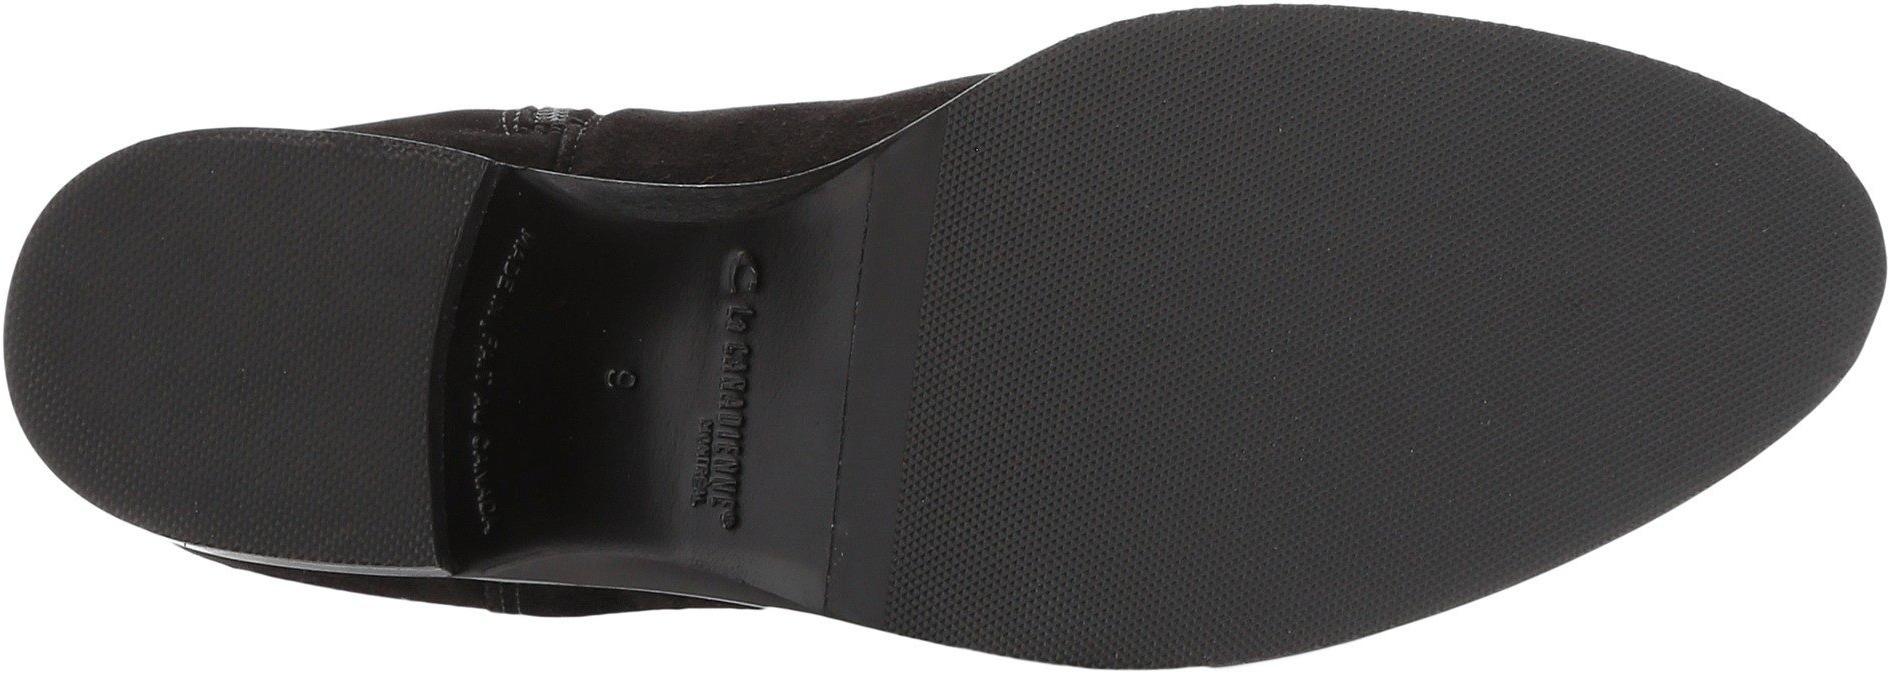other: (1342, 87, 1677, 421), (981, 169, 1320, 454), (153, 154, 414, 415), (1122, 471, 1312, 647), (1685, 177, 1848, 346), (1328, 445, 1476, 582)
